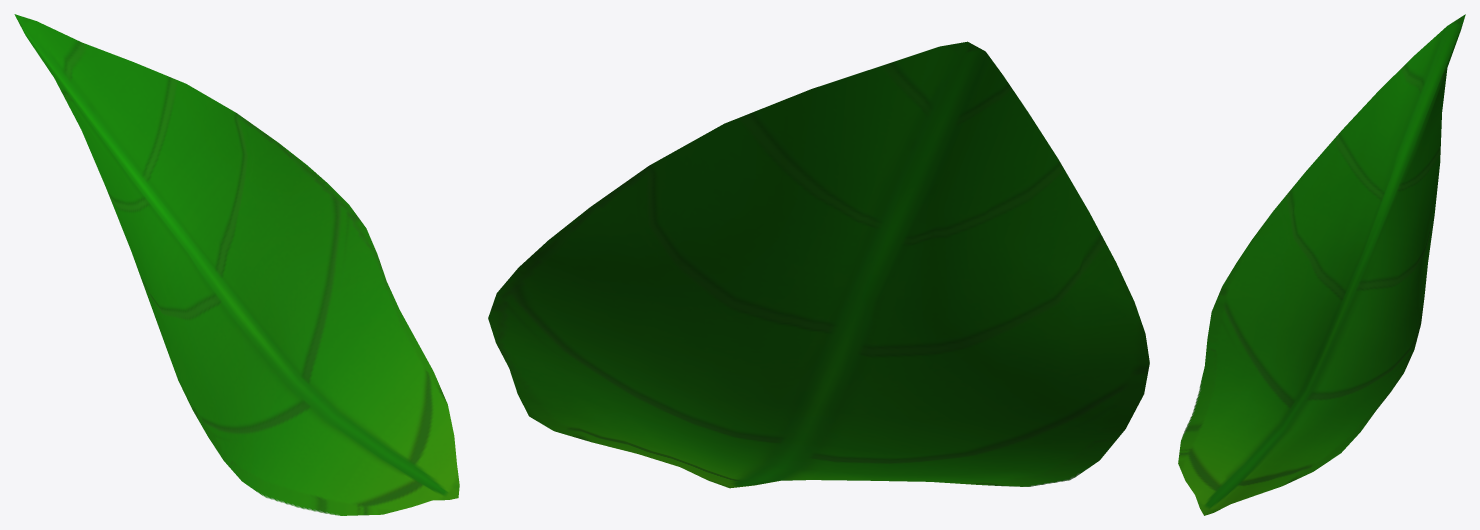
File: Leaf.fbx
The picture shows the model from 3 angles, left to right: view 1: azimuth 30°, elevation 25°; view 2: azimuth 150°, elevation 25°; view 3: azimuth 270°, elevation 25°; orthographic projection. The views are drawn at different scales.
Parts seen in each view (by area): view 1: Plane.005; view 2: Plane.005; view 3: Plane.005.
Part boxes in pixels (<box>): Plane.005: <box>14,14,459,515</box>; Plane.005: <box>488,41,1149,488</box>; Plane.005: <box>1178,14,1465,515</box>.
Bounding box in the file's own units: 1.1 × 1.6 × 1.25.
